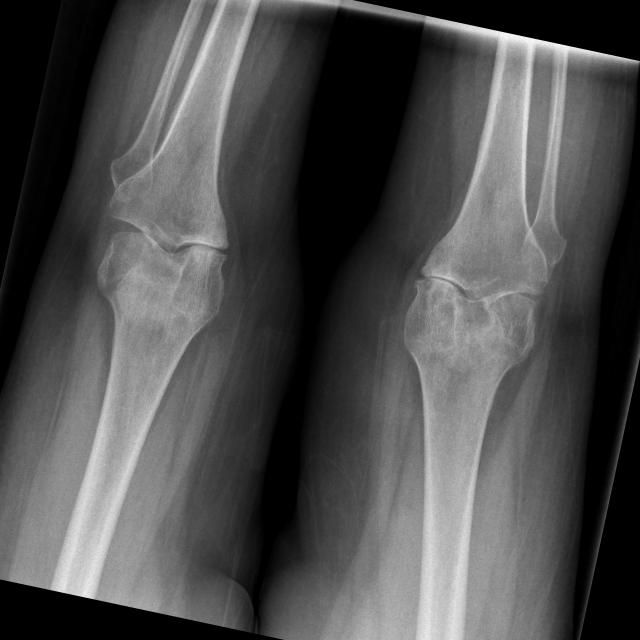Knee: (88, 160, 249, 324), (398, 220, 558, 377)
